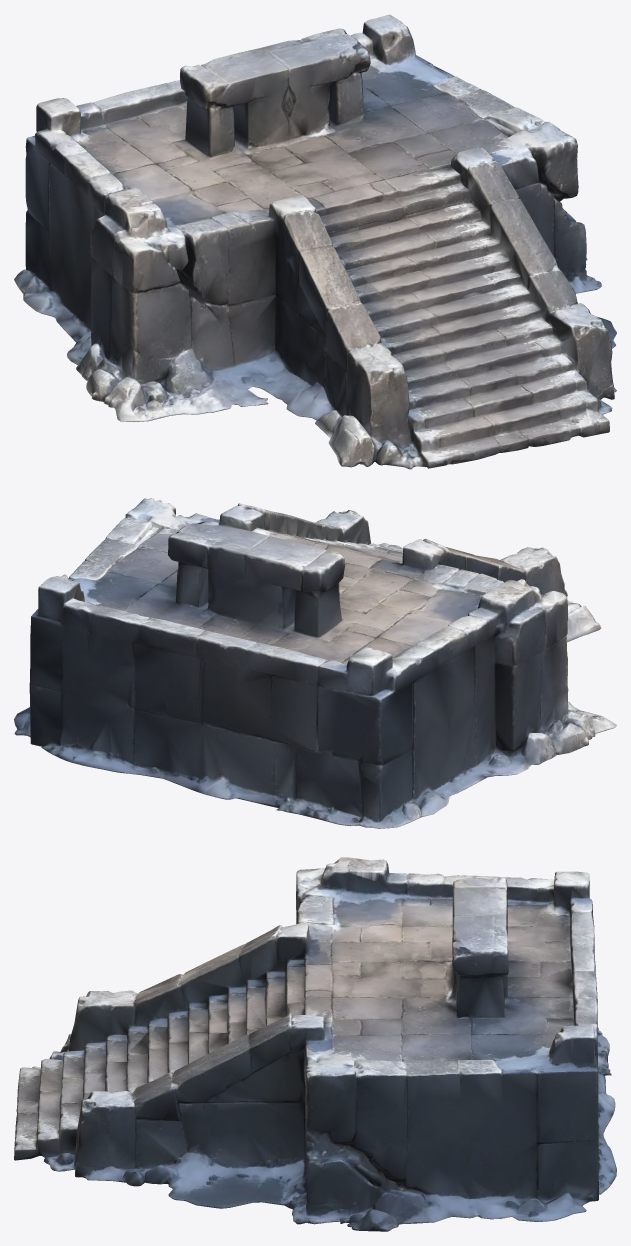
File: plataforma_ruina.glb
The picture shows the model from 3 angles, top to bottom: view 1: azimuth 30°, elevation 25°; view 2: azimuth 150°, elevation 25°; view 3: azimuth 270°, elevation 25°; orthographic projection. The views are drawn at different scales.
Parts seen in each view (by area): view 1: tripo_node_28b66d18-d080-44e0-8cd5-d1e066e12646; view 2: tripo_node_28b66d18-d080-44e0-8cd5-d1e066e12646; view 3: tripo_node_28b66d18-d080-44e0-8cd5-d1e066e12646.
Part boxes in pixels (box(x1,y1,x2,y2)): tripo_node_28b66d18-d080-44e0-8cd5-d1e066e12646: box(14, 14, 616, 469); tripo_node_28b66d18-d080-44e0-8cd5-d1e066e12646: box(14, 498, 616, 828); tripo_node_28b66d18-d080-44e0-8cd5-d1e066e12646: box(14, 857, 616, 1231).
Size of the model in its own units: 0.9428 by 0.3767 by 0.9998.
Materials: 1 (1 with a texture image).
